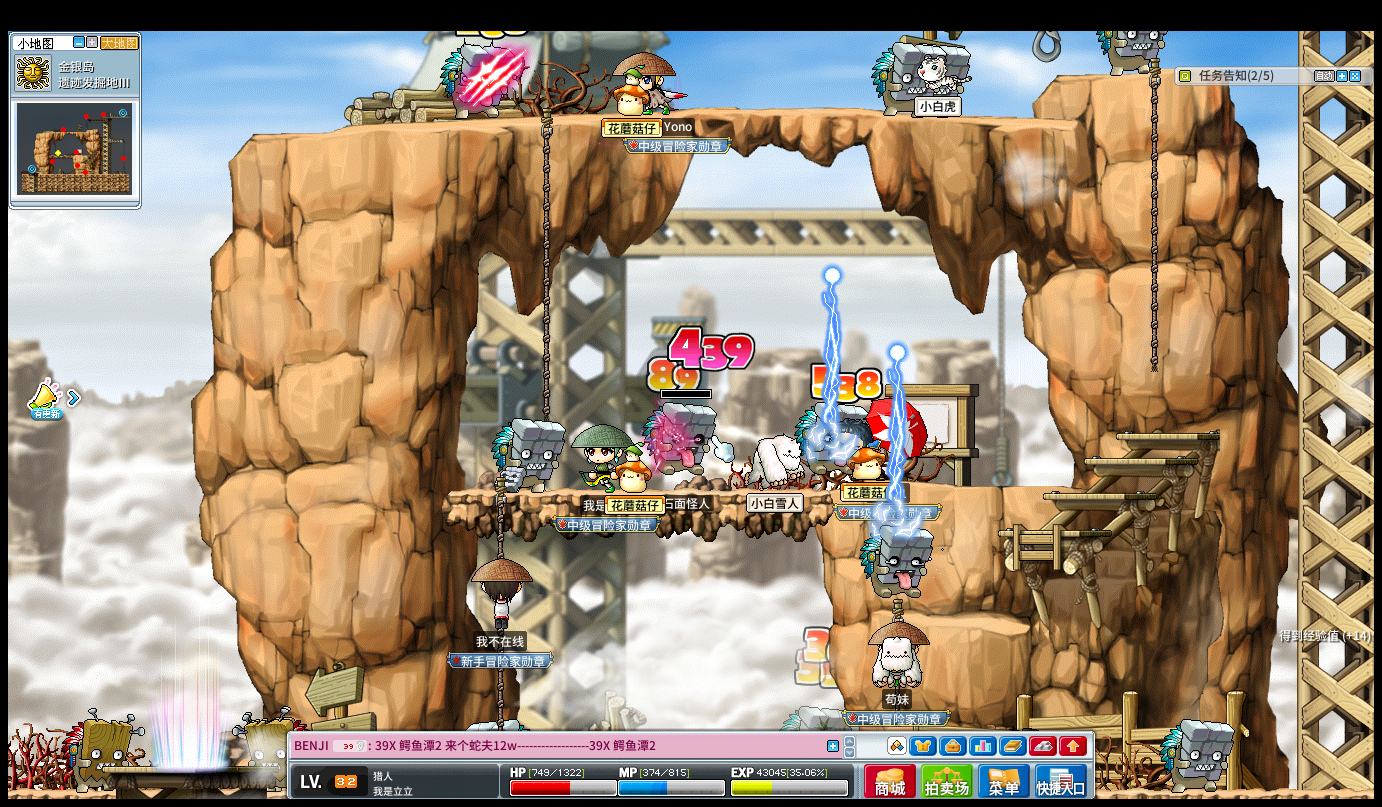floor: (248, 104, 1093, 139), (448, 486, 824, 499), (923, 613, 1029, 634), (905, 482, 1077, 492), (900, 481, 1089, 490), (1053, 68, 1168, 82), (1114, 429, 1221, 441), (1077, 456, 1194, 464), (1041, 492, 1154, 500), (996, 528, 1108, 536)
monster: (63, 712, 140, 791), (491, 416, 565, 493), (224, 713, 292, 792), (859, 527, 932, 600), (1160, 720, 1234, 792), (641, 402, 713, 474), (439, 40, 497, 120), (794, 401, 855, 473), (871, 41, 919, 116), (1098, 28, 1157, 76)
rope: (1146, 54, 1160, 377), (540, 108, 551, 424), (492, 484, 506, 559), (494, 668, 504, 718)
